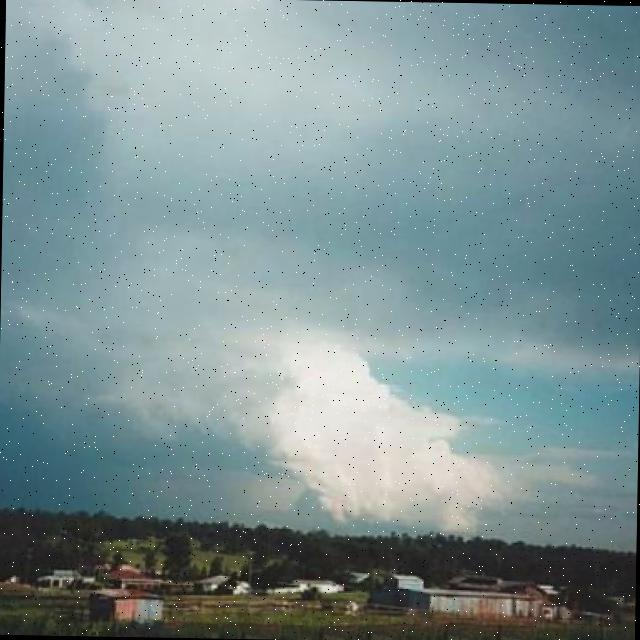As: (1, 33, 640, 504)
